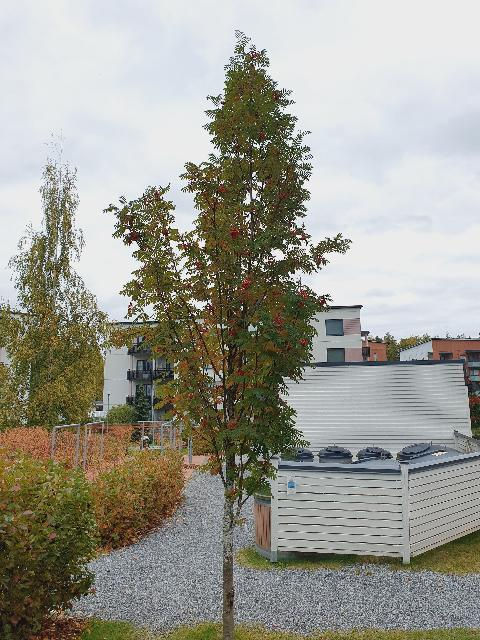birch: (2, 122, 115, 434)
rowan: (96, 25, 356, 640)
